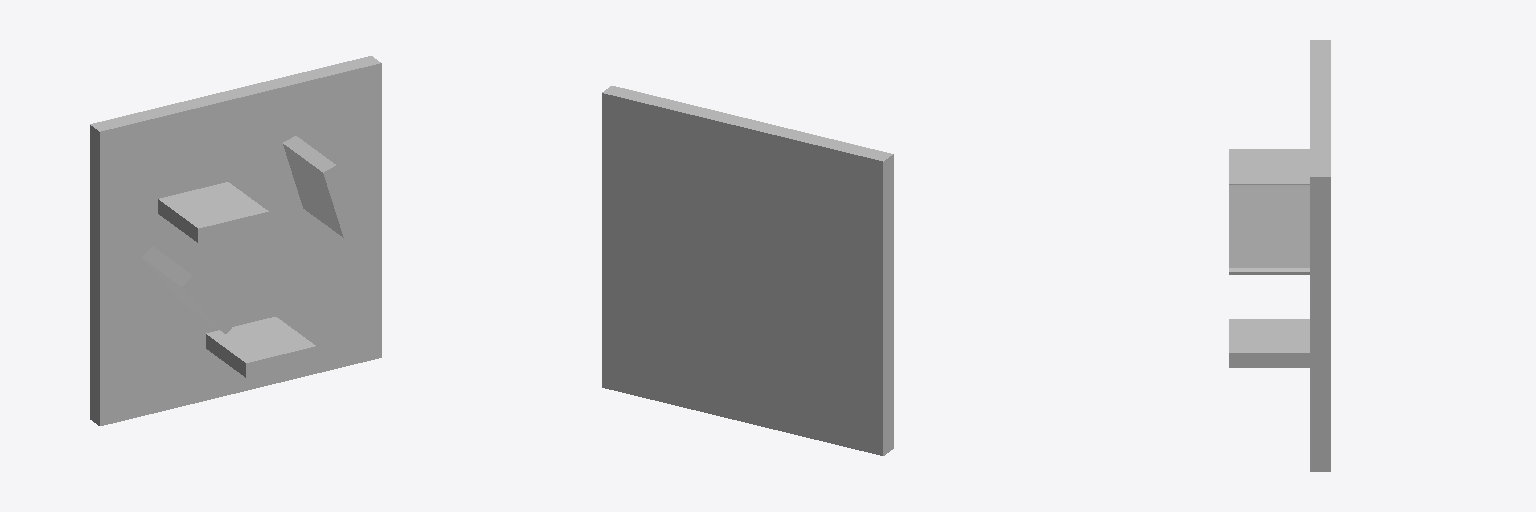
File: maze.obj
The picture shows the model from 3 angles: view 1: azimuth 30°, elevation 25°; view 2: azimuth 150°, elevation 25°; view 3: azimuth 270°, elevation 25°; orthographic projection.
Parts seen in each view (by area): view 1: Cube.019_Cube.016, Cube.001_Cube.002, Cube_Cube.001, Cube.003_Cube.004, Cube.002_Cube.003; view 2: Cube.019_Cube.016; view 3: Cube.019_Cube.016, Cube.003_Cube.004, Cube_Cube.001, Cube.001_Cube.002, Cube.002_Cube.003.
Part boxes in pixels (bbox=[...]): Cube.019_Cube.016: bbox=[90, 56, 381, 425]; Cube.001_Cube.002: bbox=[158, 182, 268, 242]; Cube_Cube.001: bbox=[206, 317, 316, 377]; Cube.003_Cube.004: bbox=[283, 136, 356, 237]; Cube.002_Cube.003: bbox=[142, 246, 236, 333]; Cube.019_Cube.016: bbox=[602, 86, 893, 455]; Cube.019_Cube.016: bbox=[1310, 40, 1330, 471]; Cube.003_Cube.004: bbox=[1229, 185, 1309, 267]; Cube_Cube.001: bbox=[1229, 319, 1309, 367]; Cube.001_Cube.002: bbox=[1229, 149, 1309, 184]; Cube.002_Cube.003: bbox=[1229, 268, 1309, 274].
Bounding box in the file's own units: 8 × 8 × 2.5.